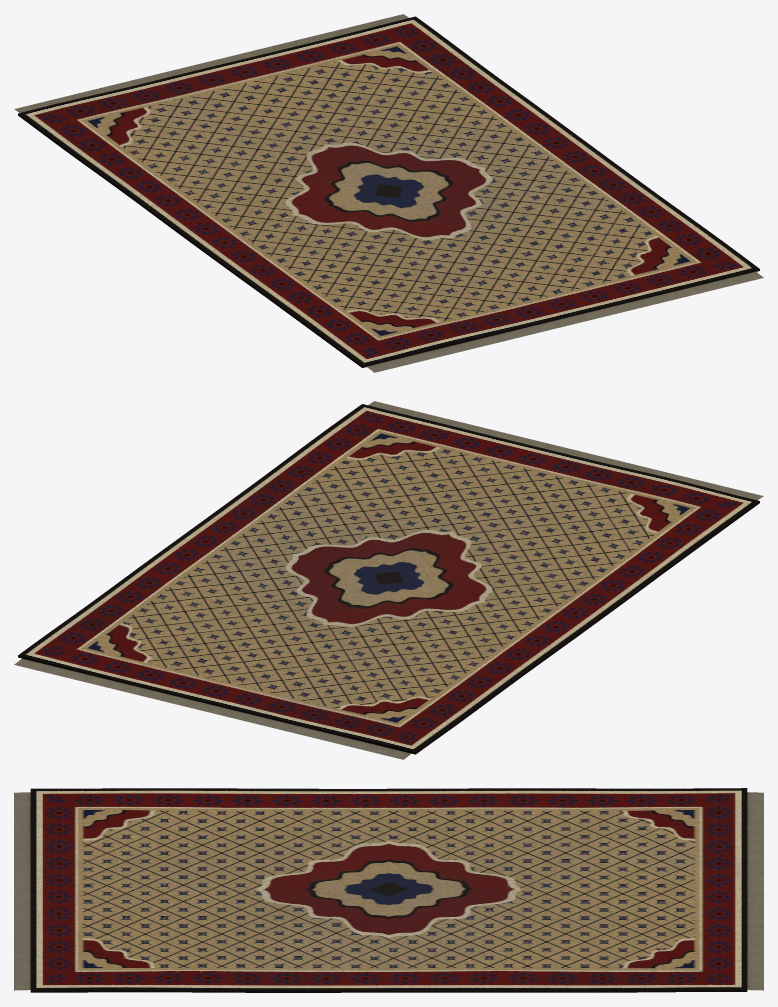
File: carpet_floor_beige_web.glb
The picture shows the model from 3 angles, top to bottom: view 1: azimuth 30°, elevation 25°; view 2: azimuth 150°, elevation 25°; view 3: azimuth 270°, elevation 25°; orthographic projection. The views are drawn at different scales.
Visible parts, largest first — view 1: CarpetFloorBeige_Body; view 2: CarpetFloorBeige_Body; view 3: CarpetFloorBeige_Body.
Part boxes in pixels (x1,y1,x2,y2): CarpetFloorBeige_Body: [14, 14, 763, 372]; CarpetFloorBeige_Body: [14, 401, 763, 759]; CarpetFloorBeige_Body: [14, 788, 763, 992].
Bounding box in the file's own units: 2 × 0.0159 × 3.14.
1 material, 1 textured.
